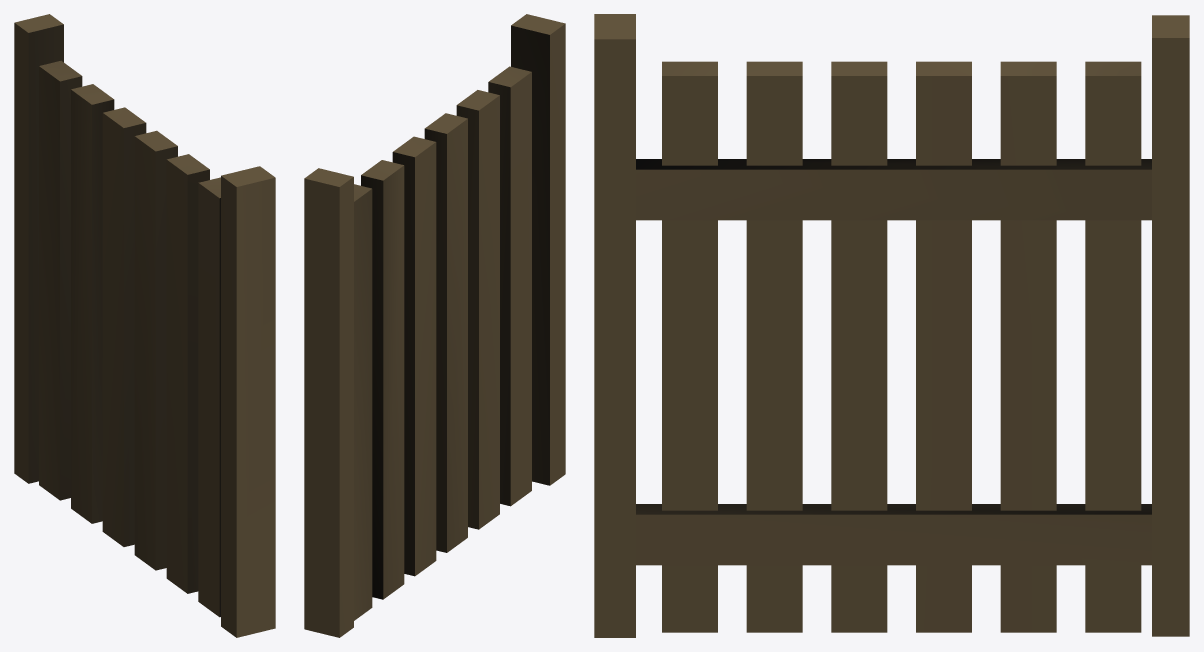
Rendered from Wood_Fence_Dence_Gate.fbx.
The picture shows the model from 3 angles, left to right: view 1: azimuth 30°, elevation 25°; view 2: azimuth 150°, elevation 25°; view 3: azimuth 270°, elevation 25°; orthographic projection. The views are drawn at different scales.
Visible parts, largest first — view 1: Wood_Fence_Dence_Gate; view 2: Wood_Fence_Dence_Gate; view 3: Wood_Fence_Dence_Gate.
Boxes of the visible parts, x1=… form: Wood_Fence_Dence_Gate: x1=14, y1=14, x2=275, y2=637; Wood_Fence_Dence_Gate: x1=304, y1=14, x2=565, y2=637; Wood_Fence_Dence_Gate: x1=594, y1=14, x2=1189, y2=637.
Bounding box in the file's own units: 0.00763 × 0.0842 × 0.0759.
